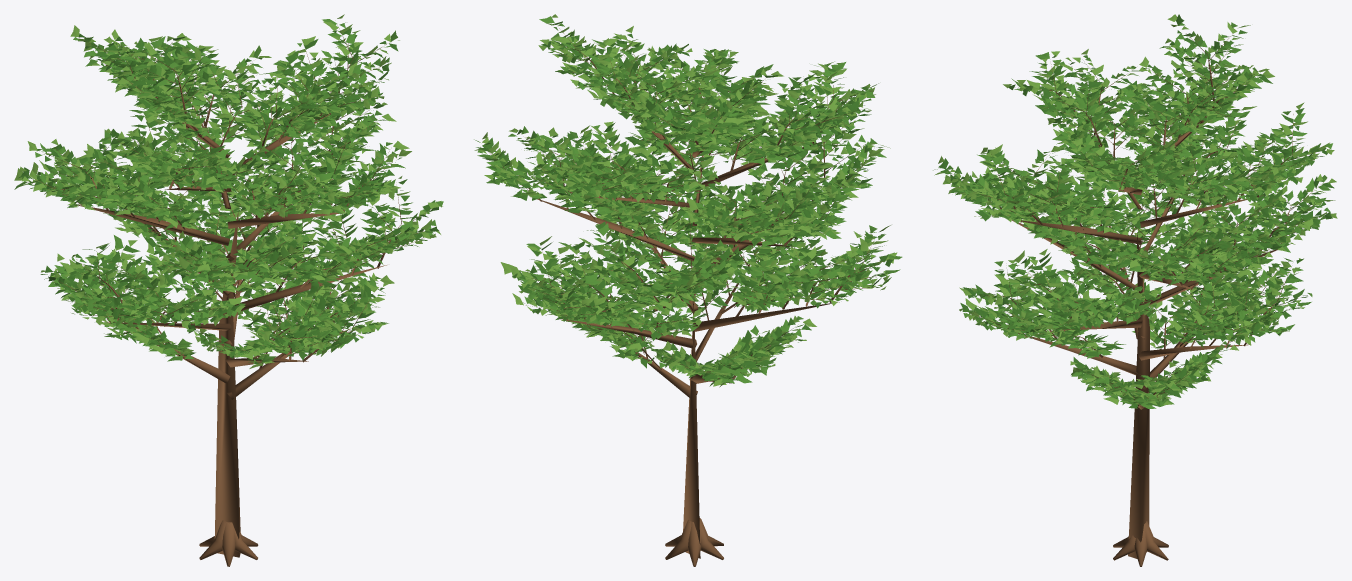
Rendered from maple.glb.
The picture shows the model from 3 angles, left to right: view 1: azimuth 30°, elevation 25°; view 2: azimuth 150°, elevation 25°; view 3: azimuth 270°, elevation 25°; orthographic projection. The views are drawn at different scales.
Visible parts, largest first — view 1: Foliage 2, Foliage 1, Foliage 0, Trunk, Scaffold branch.009, Scaffold branch.005, Scaffold branch.010, Scaffold branch; view 2: Foliage 2, Foliage 1, Foliage 0, Trunk, Scaffold branch.008, Scaffold branch.004, Scaffold branch.003; view 3: Foliage 2, Foliage 1, Foliage 0, Trunk, Scaffold branch.010, Scaffold branch.002, Scaffold branch.003.
Part boxes in pixels (bbox=[...]): Foliage 2: bbox=[14, 14, 442, 368]; Foliage 1: bbox=[14, 19, 443, 362]; Foliage 0: bbox=[21, 22, 438, 363]; Trunk: bbox=[214, 212, 240, 557]; Scaffold branch.009: bbox=[78, 205, 229, 245]; Scaffold branch.005: bbox=[234, 265, 386, 310]; Scaffold branch.010: bbox=[227, 212, 338, 228]; Scaffold branch: bbox=[226, 352, 293, 399]; Foliage 2: bbox=[474, 14, 897, 387]; Foliage 1: bbox=[474, 16, 902, 386]; Foliage 0: bbox=[476, 21, 894, 381]; Trunk: bbox=[683, 218, 700, 558]; Scaffold branch.008: bbox=[537, 199, 694, 261]; Scaffold branch.004: bbox=[693, 302, 839, 331]; Scaffold branch.003: bbox=[559, 319, 696, 348]; Foliage 2: bbox=[934, 14, 1337, 406]; Foliage 1: bbox=[933, 22, 1332, 408]; Foliage 0: bbox=[938, 14, 1334, 408]; Trunk: bbox=[1128, 233, 1149, 558]; Scaffold branch.010: bbox=[1022, 220, 1141, 244]; Scaffold branch.002: bbox=[1018, 333, 1140, 375]; Scaffold branch.003: bbox=[1139, 344, 1251, 360].
Bounding box in the file's own units: 7.06 × 9.49 × 7.11.
